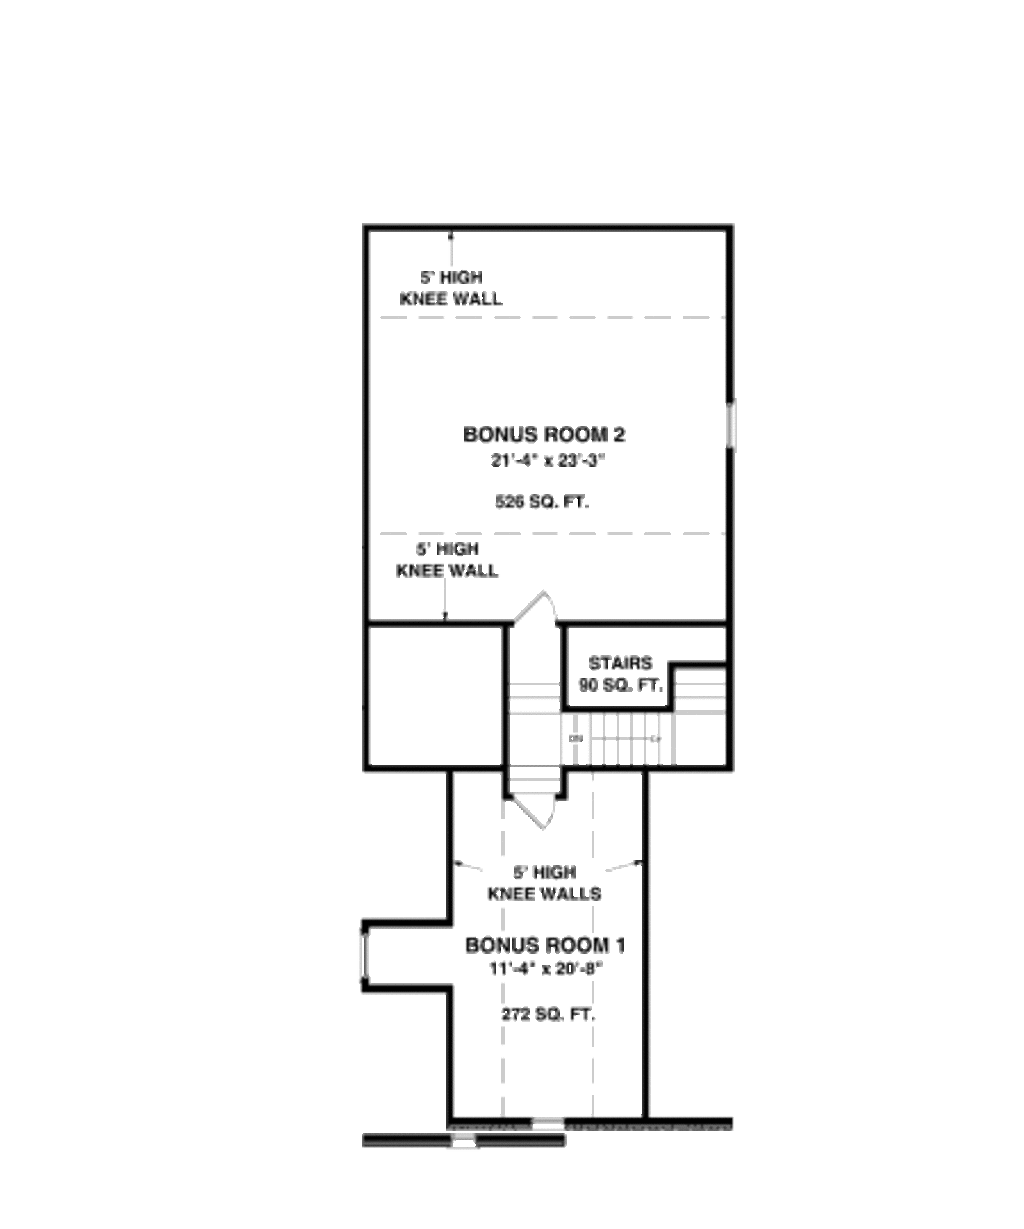door: (503, 578, 574, 630), (503, 788, 576, 832)
stairs: (503, 636, 753, 786)
window: (710, 392, 747, 455), (360, 928, 382, 978), (530, 1115, 570, 1132)
